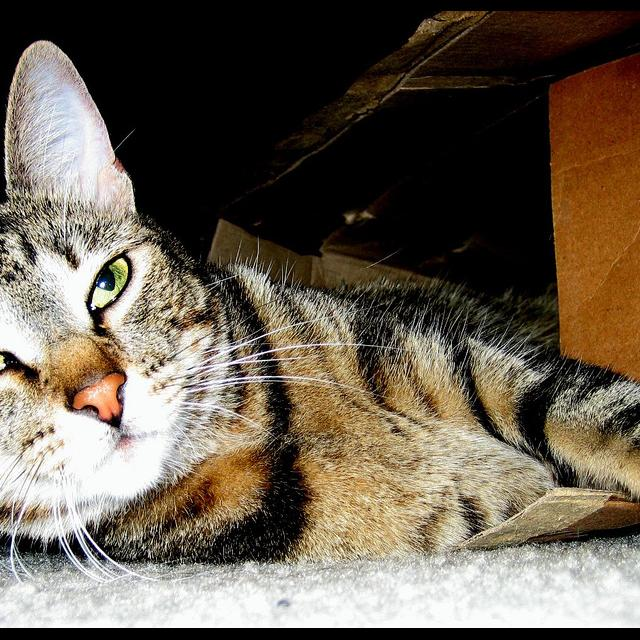animals: (0, 41, 140, 422)
